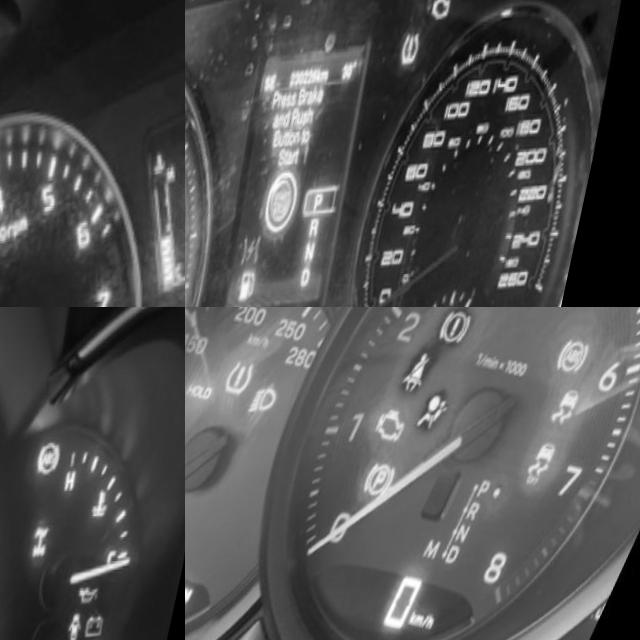Doors: (79, 612, 102, 640)
Low beam: (256, 383, 296, 420)
Low fuel level: (252, 269, 277, 306)
